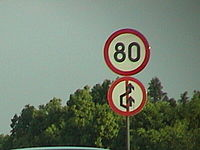Speed_limit_80km: (103, 28, 151, 77)
